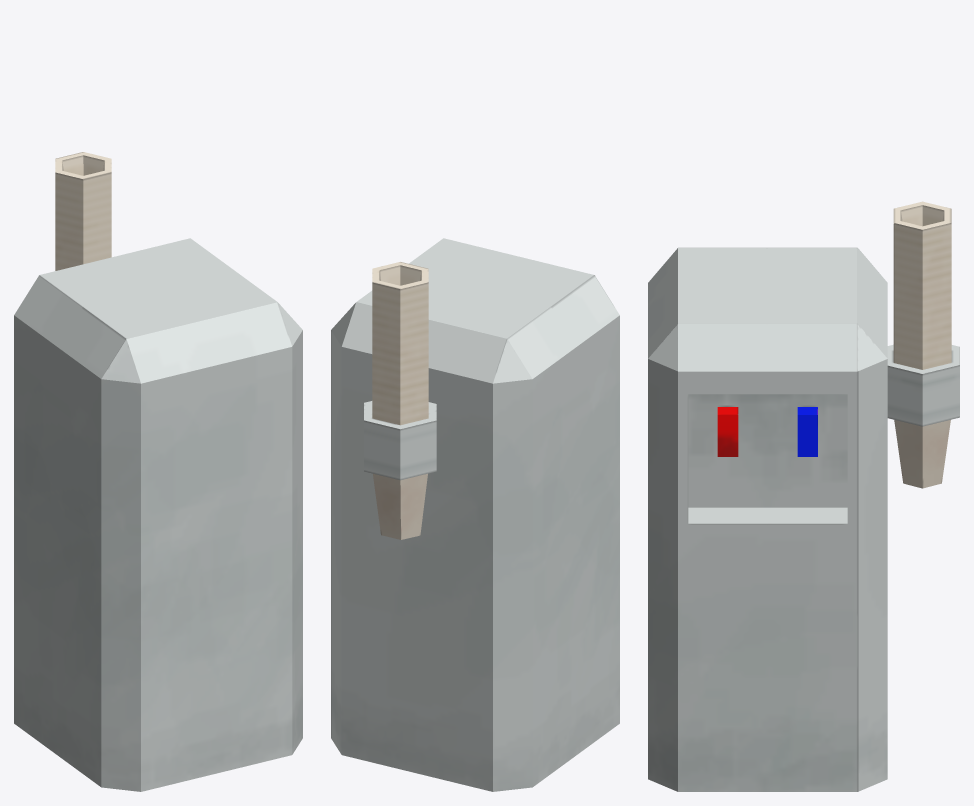
File: WaterCooler.fbx
3 renders of one model, left to right at view 1: azimuth 30°, elevation 25°; view 2: azimuth 150°, elevation 25°; view 3: azimuth 270°, elevation 25°, orthographic. The views are drawn at different scales.
Parts seen in each view (by area): view 1: Machine; view 2: Machine; view 3: Machine.
Part boxes in pixels (x1,y1,x2,y2): Machine: (14, 152, 302, 791); Machine: (331, 238, 619, 791); Machine: (648, 201, 959, 791).
Bounding box in the file's own units: 77.5 × 249 × 101.
1 material, 1 textured.
